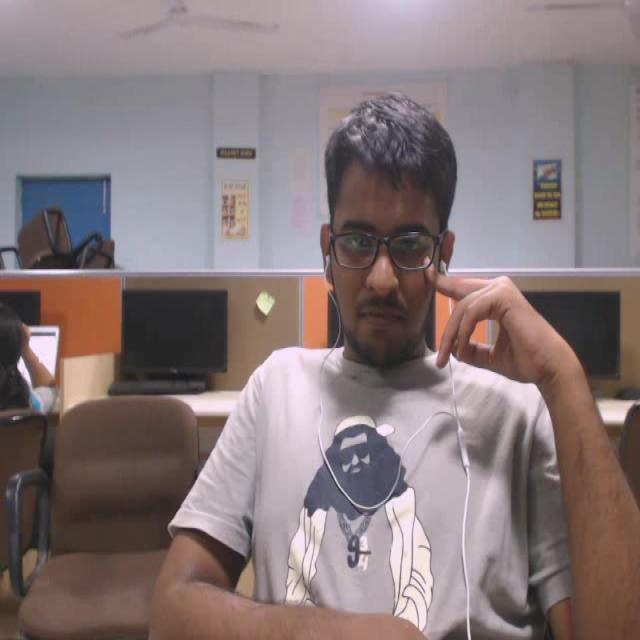Engaged: (286, 76, 478, 384)
